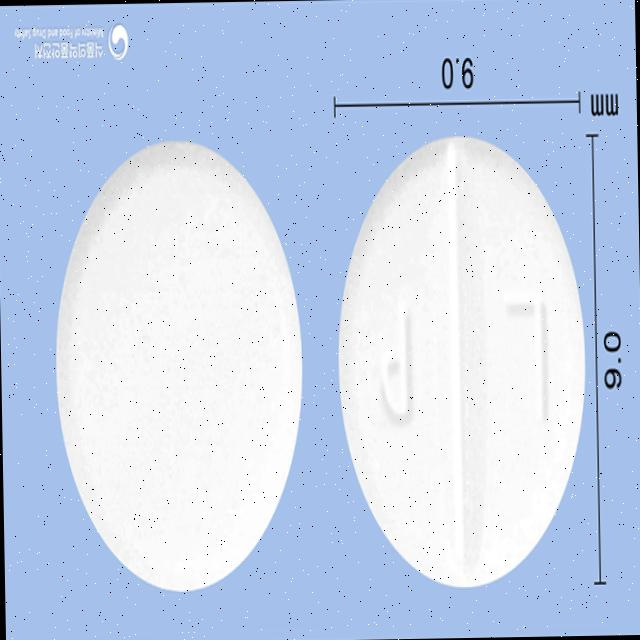Lamisil: (331, 130, 589, 594)
